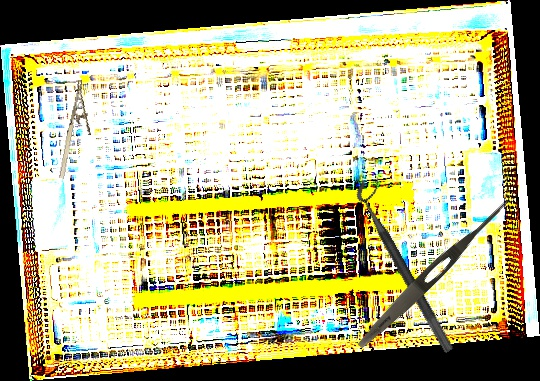Dressing Forceps: (353, 191, 515, 354)
Fixation Ring: (350, 173, 469, 355)
Needle Holder: (56, 79, 102, 183)
